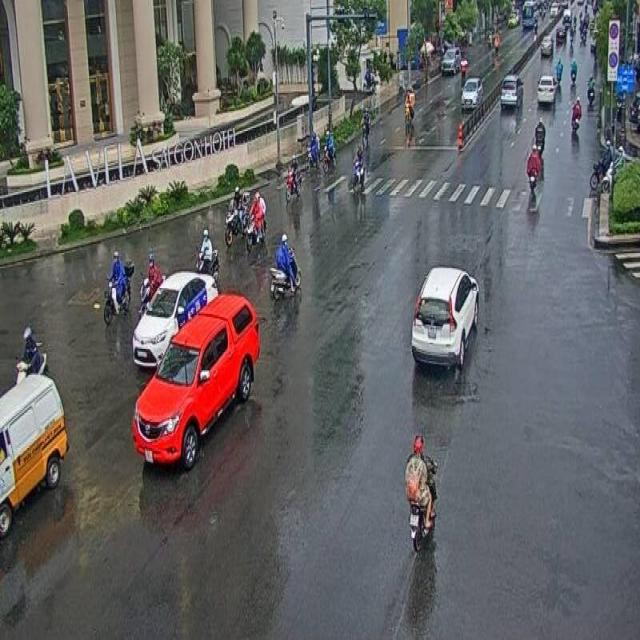car: (134, 292, 257, 476), (409, 261, 482, 384), (132, 270, 216, 367)
motorcycle: (405, 432, 436, 552), (104, 247, 133, 321), (270, 230, 300, 297), (224, 184, 249, 244), (194, 226, 220, 280), (245, 189, 267, 250), (284, 154, 302, 203), (526, 140, 540, 194), (351, 142, 366, 190), (305, 131, 320, 172), (322, 130, 336, 172)
truck: (0, 371, 68, 534)
